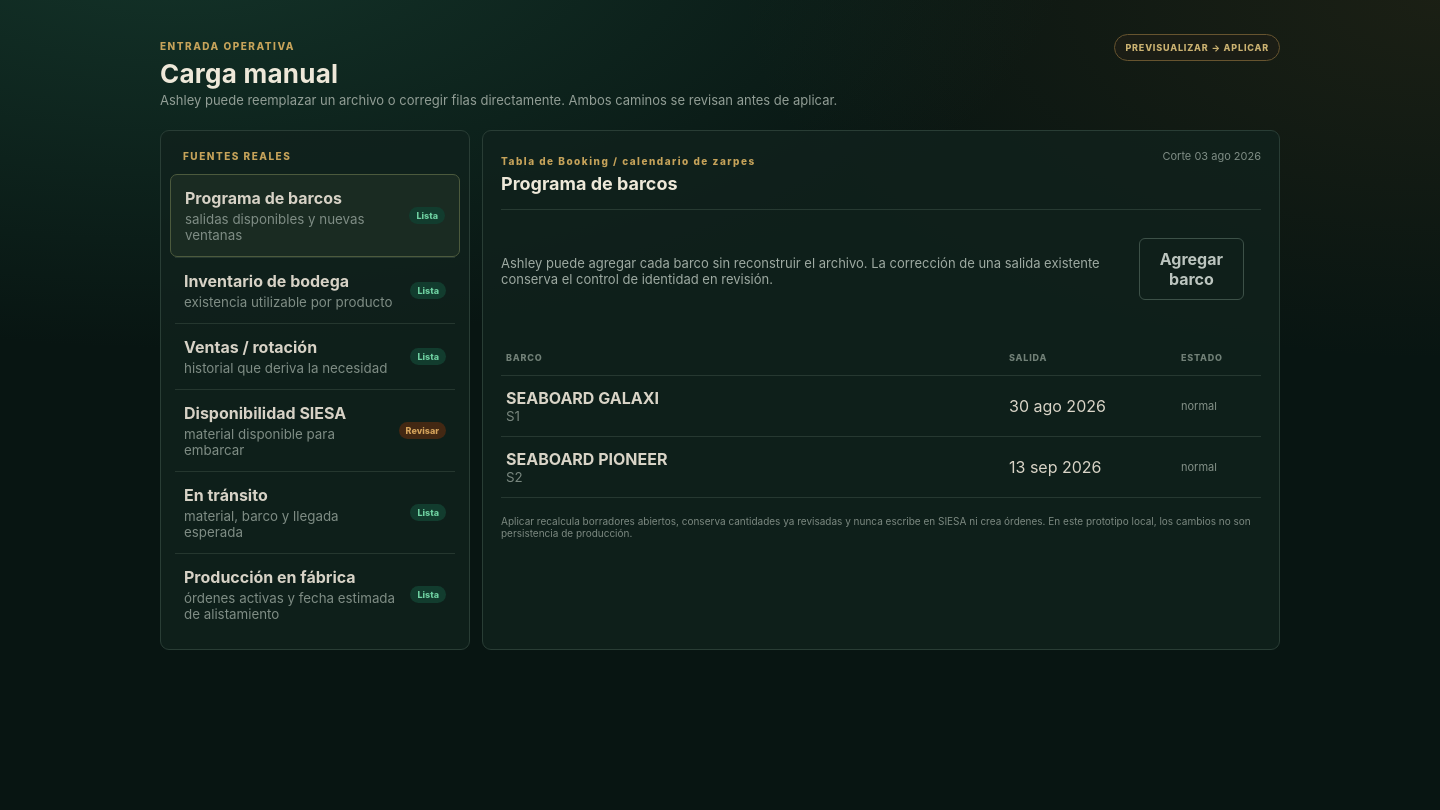
Test: Ashley manual intake workspace › lets Ashley reconcile the boat, BL, arrival and quantity of confirmed transit
Click the button "En tránsito" at [315, 512], box [175,471,455,553]
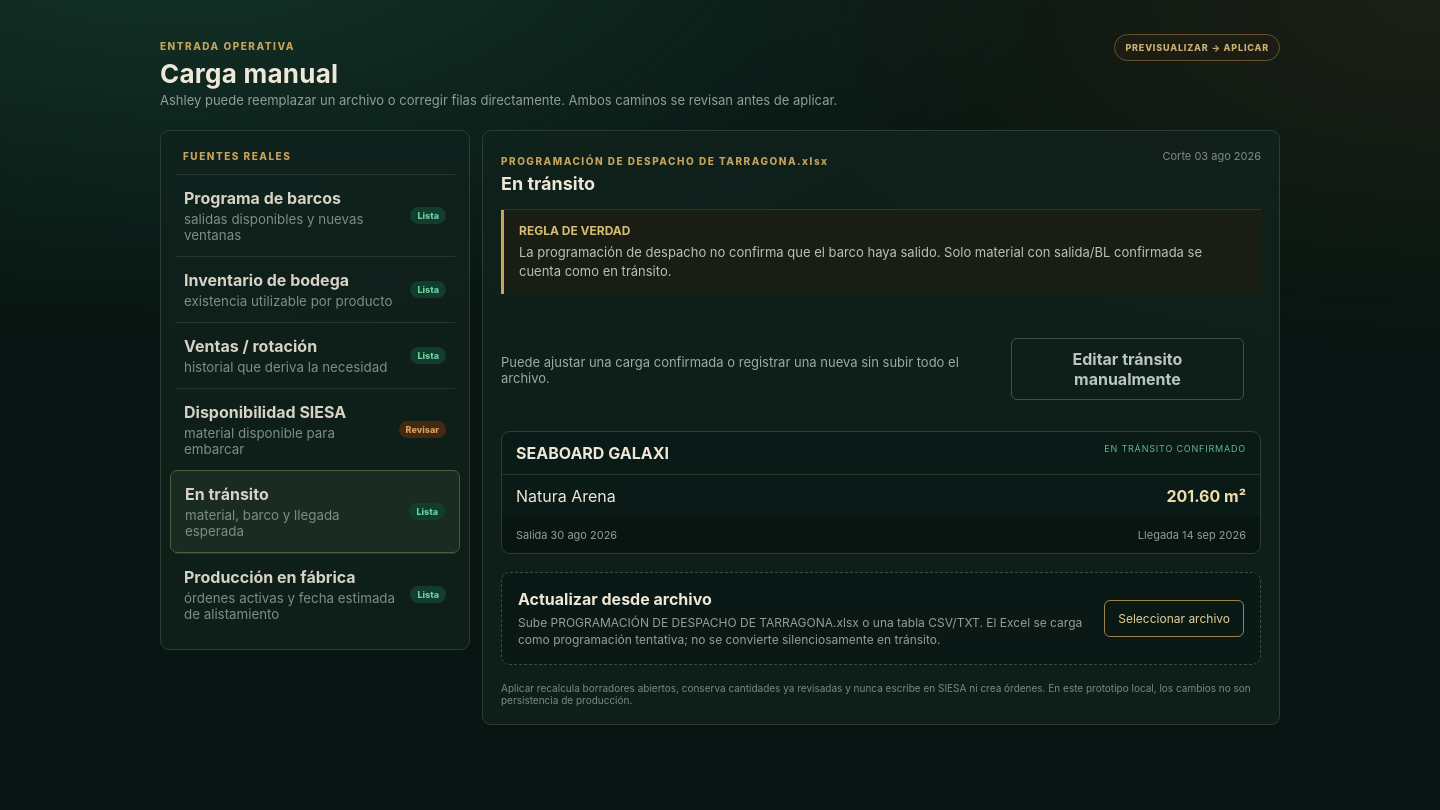
Click the button "Editar tránsito manualmente" at [1127, 369], box [1011,338,1244,400]
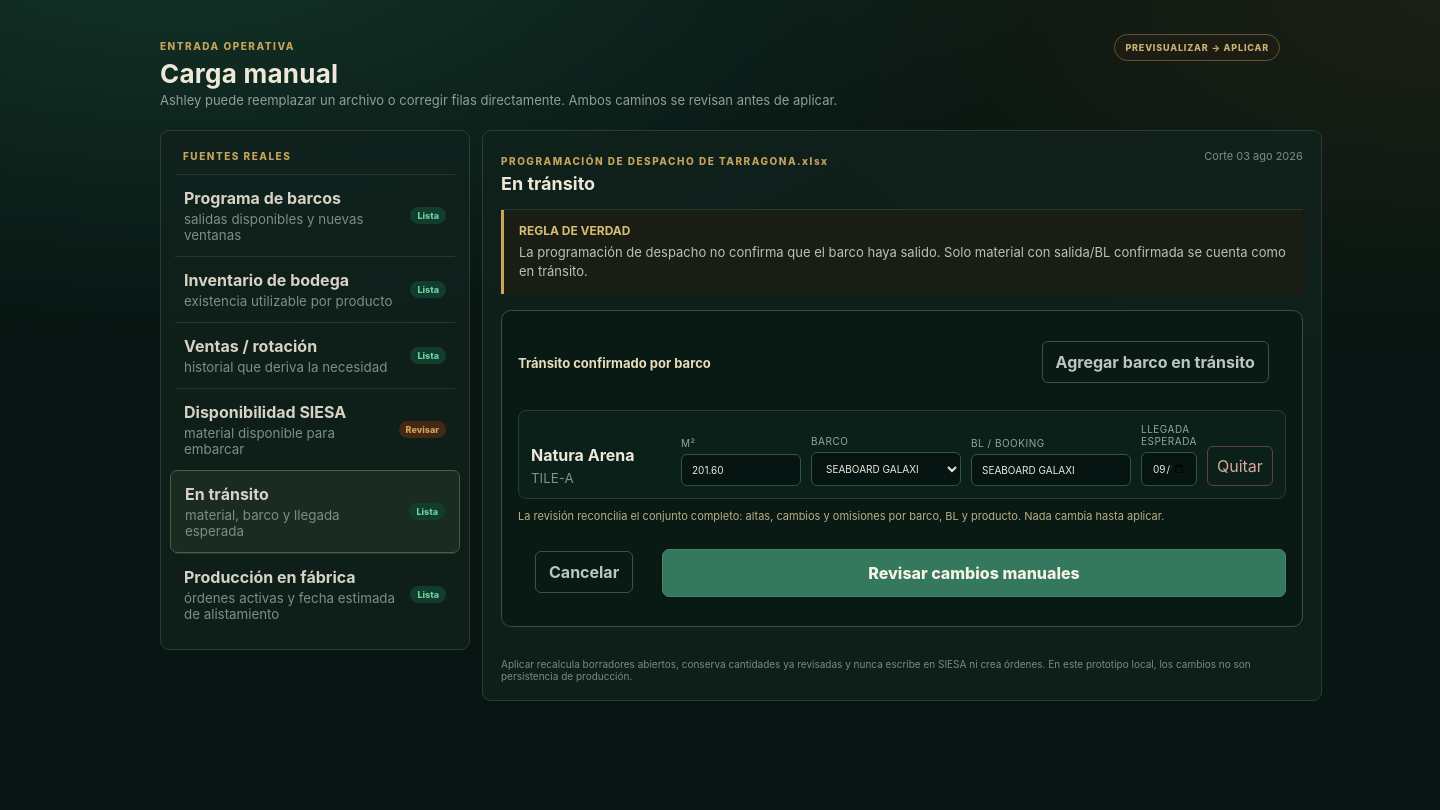
Check: the number field named "Natura Arena m² en tránsito" is shown, box [681,454,801,486]
Check: the dropdown named "Natura Arena barco en tránsito" is shown, box [811,452,961,486]
Check: the field named "Natura Arena BL o booking" is shown, box [971,454,1131,486]
